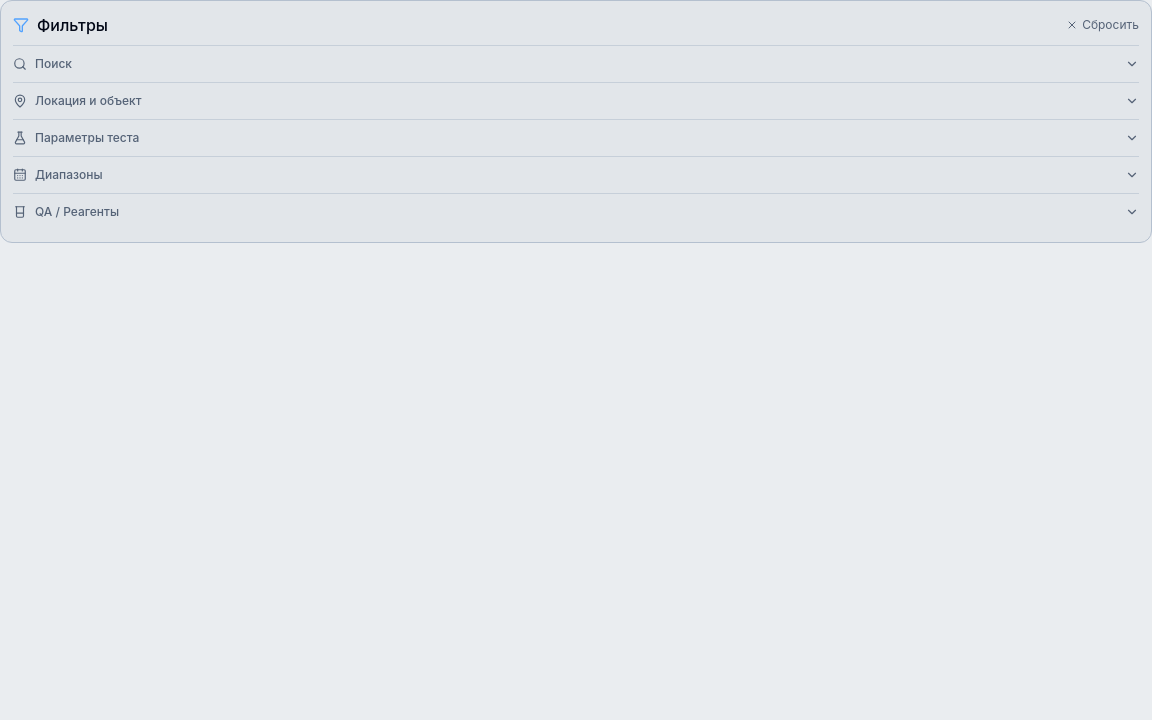
Test: ExperimentFilters — touch-point section › renders the touch-point section with threshold selector and disclaimer
What coordinates should you click on to do the following:
click the button "Диапазоны"
I would click on:
 (69, 174)
Its box is [13,157,1139,193].
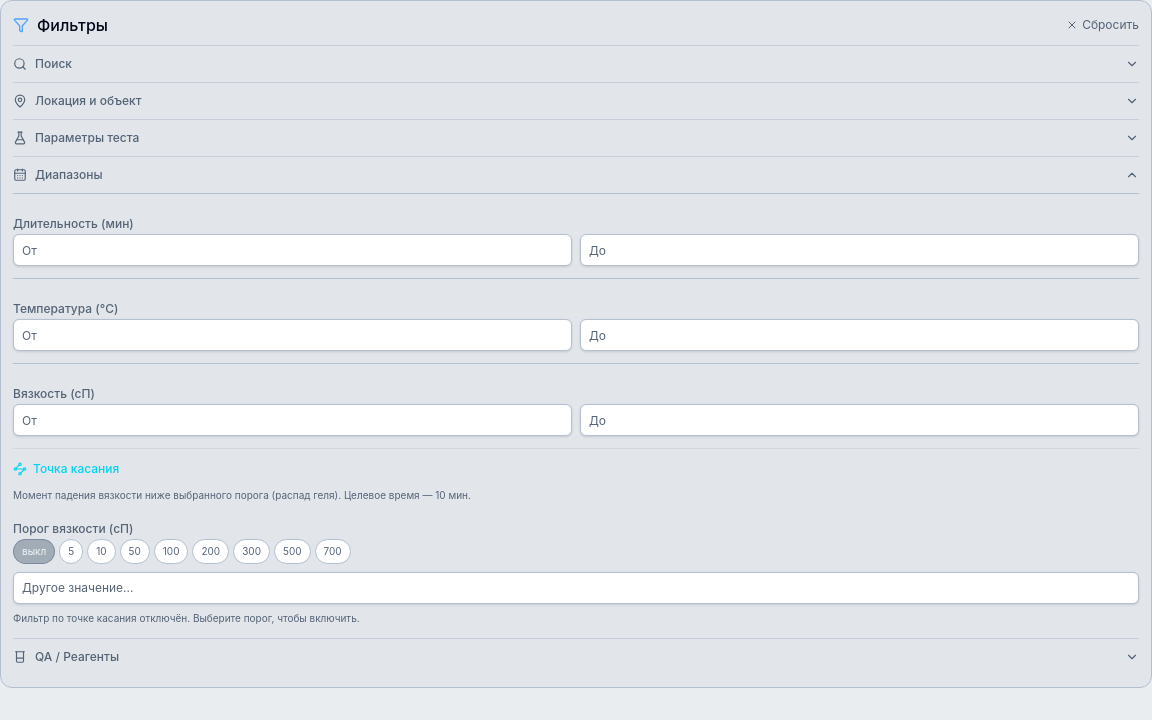
Expected: the element with test id "TouchPointFiltersSection" is shown, [13,448,1139,626]
Expected: the text "Точка касания" is shown, [33,461,119,477]
Expected: the element with test id "ViscosityThresholdSelector" is shown, [13,515,1139,626]
